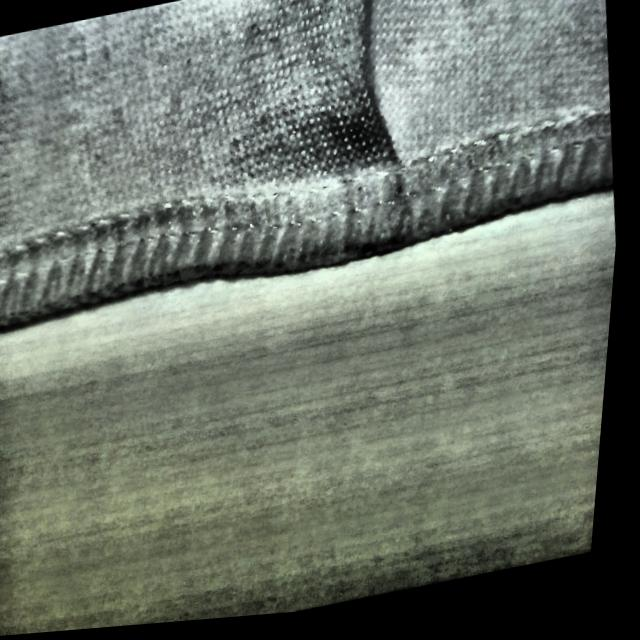seam: (266, 0, 472, 277)
